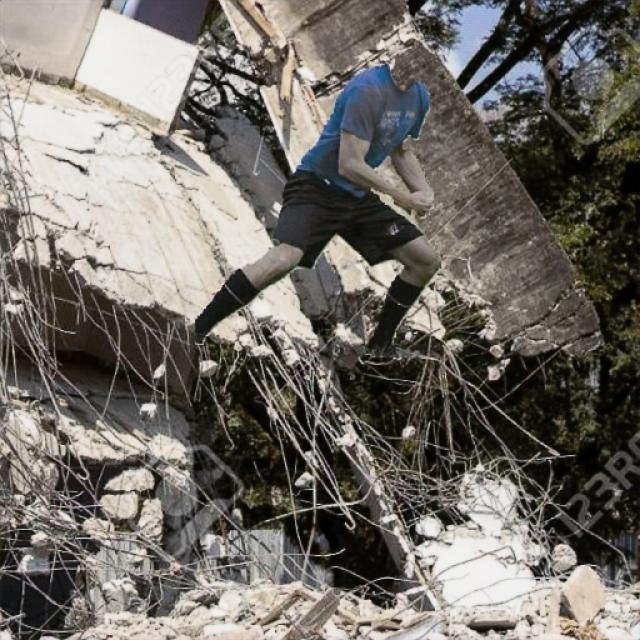Person in Rubble: (195, 64, 441, 356)
